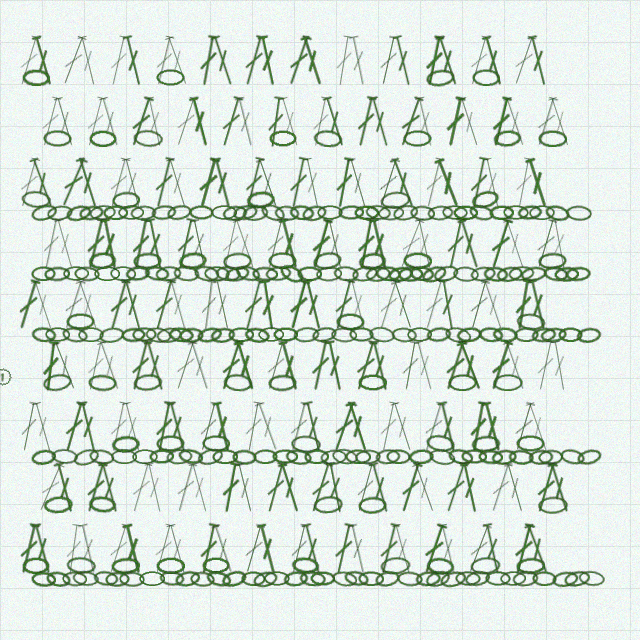chain: (277, 261, 306, 286), (470, 188, 501, 211), (312, 250, 343, 271), (42, 372, 73, 393), (425, 433, 456, 454), (259, 201, 287, 224), (72, 446, 101, 468), (425, 68, 456, 88), (380, 190, 411, 210), (420, 263, 448, 285), (196, 446, 225, 467), (516, 312, 546, 332), (380, 556, 411, 575), (470, 556, 501, 575), (30, 202, 58, 223), (234, 263, 262, 284), (432, 263, 460, 284), (220, 568, 248, 589), (424, 568, 452, 589), (358, 251, 387, 271), (426, 556, 455, 576), (133, 129, 163, 148), (313, 129, 343, 148), (21, 190, 51, 209), (133, 373, 163, 392), (223, 373, 253, 392), (43, 495, 73, 514), (313, 495, 343, 514), (66, 556, 96, 575), (444, 325, 472, 345), (428, 447, 456, 467), (439, 569, 467, 589), (493, 129, 522, 148), (246, 190, 275, 209), (88, 251, 117, 270), (178, 251, 207, 270), (88, 495, 117, 514), (291, 556, 320, 575), (65, 203, 92, 223), (301, 203, 328, 223), (468, 203, 495, 223), (544, 203, 571, 223), (224, 264, 251, 284), (196, 325, 223, 345), (291, 435, 321, 453), (471, 435, 501, 453), (559, 447, 586, 467), (576, 447, 603, 467), (538, 496, 568, 514), (205, 569, 232, 589), (252, 569, 279, 589), (351, 264, 379, 283), (368, 325, 396, 344), (331, 447, 359, 466), (563, 569, 591, 588), (133, 252, 162, 270), (223, 252, 252, 270), (538, 252, 567, 270), (88, 374, 117, 392), (268, 374, 297, 392), (111, 435, 140, 453), (358, 496, 387, 514), (111, 557, 140, 575), (516, 557, 545, 575), (166, 203, 193, 222), (232, 203, 259, 222), (392, 203, 419, 222), (193, 264, 220, 283), (311, 325, 338, 344), (177, 447, 204, 466), (447, 447, 474, 466), (174, 569, 201, 588), (343, 569, 370, 588), (374, 569, 401, 588), (464, 569, 491, 588), (493, 374, 523, 391), (112, 191, 140, 209), (46, 204, 74, 222), (61, 326, 89, 344), (551, 570, 579, 588), (156, 69, 185, 86), (43, 130, 72, 147), (403, 130, 432, 147), (538, 130, 567, 147), (268, 252, 297, 269), (403, 252, 432, 269), (66, 313, 95, 330), (336, 313, 365, 330), (358, 374, 387, 391), (448, 374, 477, 391), (156, 435, 185, 452), (516, 435, 545, 452), (156, 557, 185, 574), (78, 204, 105, 222), (242, 204, 269, 222), (387, 265, 414, 283), (496, 265, 523, 283), (520, 265, 547, 283), (98, 326, 125, 344), (145, 326, 172, 344), (540, 326, 567, 344), (30, 448, 57, 466), (88, 448, 115, 466), (285, 448, 312, 466), (45, 570, 72, 588), (331, 570, 358, 588), (22, 69, 50, 86), (472, 69, 500, 86), (89, 130, 117, 147), (269, 130, 297, 147), (202, 435, 230, 452), (22, 557, 50, 574), (202, 557, 230, 574), (222, 204, 248, 222), (365, 265, 391, 283), (470, 265, 496, 283), (543, 265, 569, 283), (156, 326, 182, 344), (210, 326, 236, 344), (244, 326, 270, 344), (531, 326, 557, 344), (576, 326, 602, 344), (491, 448, 517, 466), (89, 204, 116, 221), (155, 265, 182, 282), (173, 265, 200, 282), (265, 265, 292, 282), (508, 265, 535, 282), (293, 326, 320, 343), (51, 448, 78, 465), (166, 448, 193, 465), (72, 570, 99, 587), (299, 570, 326, 587), (512, 570, 539, 587), (578, 570, 605, 587), (151, 204, 177, 221), (289, 204, 315, 221), (365, 204, 391, 221), (517, 204, 543, 221), (125, 265, 151, 282), (144, 265, 170, 282), (215, 265, 241, 282), (333, 265, 359, 282), (375, 265, 401, 282), (409, 265, 435, 282), (31, 326, 57, 343), (168, 326, 194, 343), (426, 326, 452, 343), (456, 326, 482, 343), (478, 326, 504, 343), (492, 326, 518, 343), (375, 448, 401, 465), (408, 448, 434, 465), (93, 570, 119, 587), (159, 570, 185, 587), (283, 570, 309, 587), (415, 570, 441, 587), (130, 205, 157, 221), (427, 205, 454, 221), (320, 449, 347, 465), (274, 205, 300, 221), (378, 205, 404, 221), (566, 205, 592, 221), (44, 266, 70, 282), (74, 266, 100, 282), (252, 266, 278, 282), (316, 266, 342, 282), (453, 266, 479, 282), (483, 266, 509, 282), (565, 266, 591, 282), (331, 327, 357, 343), (391, 327, 417, 343), (355, 449, 381, 465), (508, 449, 534, 465), (528, 449, 554, 465), (119, 571, 145, 587), (397, 571, 423, 587), (410, 205, 435, 221), (398, 266, 423, 282), (554, 266, 579, 282), (121, 327, 146, 343), (179, 327, 204, 343), (232, 449, 257, 465), (478, 449, 503, 465), (538, 449, 563, 465), (31, 571, 56, 587), (62, 571, 87, 587), (105, 571, 130, 587), (190, 571, 215, 587), (118, 205, 144, 220), (211, 205, 237, 220), (317, 205, 343, 220), (338, 205, 364, 220), (442, 205, 468, 220), (503, 205, 529, 220), (529, 205, 555, 220), (63, 266, 89, 281), (94, 266, 120, 281), (110, 266, 136, 281), (204, 266, 230, 281), (78, 327, 104, 342), (228, 327, 254, 342), (258, 327, 284, 342), (111, 449, 137, 464), (132, 449, 158, 464), (212, 449, 238, 464), (272, 449, 298, 464), (345, 449, 371, 464), (461, 449, 487, 464), (139, 571, 165, 586), (264, 571, 290, 586), (358, 571, 384, 586), (455, 571, 481, 586), (485, 571, 511, 586), (500, 571, 526, 586), (103, 205, 128, 220), (189, 205, 214, 220), (354, 205, 379, 220), (453, 205, 478, 220), (489, 205, 514, 220), (31, 266, 56, 281), (297, 266, 322, 281), (45, 327, 70, 342), (132, 327, 157, 342), (273, 327, 298, 342), (349, 327, 374, 342), (407, 327, 432, 342), (514, 327, 539, 342), (558, 327, 583, 342), (149, 449, 174, 464), (253, 449, 278, 464), (304, 449, 329, 464), (386, 449, 411, 464), (241, 571, 266, 586), (310, 571, 335, 586), (532, 571, 557, 586)
double: (56, 156, 91, 209), (33, 461, 68, 514), (386, 156, 420, 209), (431, 156, 465, 209), (394, 217, 428, 270), (48, 339, 82, 392), (453, 339, 487, 392), (462, 522, 496, 575), (57, 34, 90, 87), (161, 34, 194, 87), (394, 95, 427, 148), (26, 156, 59, 209), (93, 339, 126, 392), (251, 400, 284, 453), (408, 461, 441, 514), (521, 522, 554, 575), (207, 34, 239, 87), (283, 34, 315, 87), (508, 34, 540, 87), (125, 95, 157, 148), (170, 95, 202, 148), (499, 95, 531, 148), (544, 95, 576, 148), (252, 156, 284, 209), (229, 217, 261, 270), (499, 217, 531, 270), (27, 278, 59, 331), (72, 278, 104, 331), (387, 278, 419, 331), (477, 278, 509, 331), (215, 339, 247, 392), (485, 339, 517, 392), (499, 339, 531, 392), (328, 400, 360, 453), (522, 400, 554, 453), (440, 461, 472, 514), (207, 522, 239, 575), (418, 522, 450, 575), (297, 34, 328, 87), (432, 34, 463, 87), (319, 95, 350, 148), (454, 95, 485, 148), (72, 156, 103, 209), (162, 156, 193, 209), (373, 156, 404, 209), (522, 156, 553, 209), (454, 217, 485, 270), (485, 217, 516, 270), (13, 278, 44, 331), (58, 278, 89, 331), (373, 278, 404, 331), (170, 339, 201, 392), (184, 339, 215, 392), (350, 339, 381, 392), (440, 339, 471, 392), (342, 400, 373, 453), (387, 400, 418, 453), (418, 400, 449, 453), (274, 461, 305, 514), (305, 461, 336, 514), (395, 461, 426, 514), (485, 461, 516, 514), (544, 461, 575, 514), (103, 522, 134, 575), (14, 34, 44, 87), (28, 34, 58, 87), (239, 34, 269, 87), (464, 34, 494, 87), (478, 34, 508, 87), (50, 95, 80, 148), (95, 95, 125, 148), (216, 95, 246, 148), (275, 95, 305, 148), (365, 95, 395, 148), (531, 95, 561, 148), (14, 156, 44, 209), (343, 156, 373, 209), (50, 217, 80, 270), (306, 217, 336, 270), (531, 217, 561, 270), (104, 278, 134, 331), (149, 278, 179, 331), (163, 278, 193, 331), (419, 278, 449, 331), (464, 278, 494, 331), (140, 339, 170, 392), (230, 339, 260, 392), (261, 339, 291, 392), (28, 400, 58, 453), (59, 400, 89, 453), (509, 400, 539, 453), (81, 461, 111, 514), (126, 461, 156, 514), (365, 461, 395, 514), (500, 461, 530, 514), (531, 461, 561, 514), (239, 522, 269, 575), (36, 95, 65, 148), (81, 95, 110, 148), (185, 95, 214, 148), (104, 156, 133, 209), (118, 156, 147, 209), (194, 156, 223, 209), (208, 156, 237, 209), (261, 217, 290, 270), (275, 217, 304, 270), (118, 278, 147, 331), (239, 278, 268, 331), (284, 278, 313, 331), (329, 278, 358, 331), (126, 339, 155, 392), (275, 339, 304, 392), (410, 339, 439, 392), (118, 400, 147, 453), (163, 400, 192, 453), (194, 400, 223, 453), (284, 400, 313, 453), (478, 400, 507, 453), (50, 461, 79, 514), (95, 461, 124, 514), (171, 461, 200, 514), (185, 461, 214, 514), (261, 461, 290, 514), (351, 461, 380, 514), (28, 522, 57, 575), (149, 522, 178, 575), (163, 522, 192, 575), (253, 522, 282, 575), (298, 522, 327, 575), (388, 522, 417, 575), (509, 522, 538, 575), (74, 34, 102, 87), (119, 34, 147, 87), (150, 34, 178, 87), (389, 34, 417, 87), (524, 34, 552, 87), (231, 95, 259, 148), (352, 95, 380, 148), (411, 95, 439, 148), (487, 95, 515, 148), (150, 156, 178, 209), (240, 156, 268, 209), (420, 156, 448, 209), (82, 217, 110, 270), (321, 217, 349, 270), (299, 278, 327, 331), (344, 278, 372, 331), (524, 278, 552, 331), (366, 339, 394, 392), (74, 400, 102, 453), (299, 400, 327, 453), (434, 400, 462, 453), (231, 461, 259, 514), (15, 522, 43, 575), (74, 522, 102, 575), (119, 522, 147, 575), (285, 522, 313, 575), (375, 522, 403, 575), (434, 522, 462, 575), (105, 34, 132, 87), (254, 34, 281, 87), (375, 34, 402, 87), (141, 95, 168, 148), (307, 95, 334, 148), (442, 95, 469, 148), (285, 156, 312, 209), (299, 156, 326, 209), (479, 156, 506, 209), (172, 217, 199, 270), (186, 217, 213, 270), (217, 217, 244, 270), (366, 217, 393, 270), (411, 217, 438, 270), (442, 217, 469, 270), (209, 278, 236, 331), (82, 339, 109, 392), (307, 339, 334, 392), (321, 339, 348, 392), (532, 339, 559, 392), (105, 400, 132, 453), (209, 400, 236, 453), (375, 400, 402, 453), (141, 461, 168, 514), (456, 461, 483, 514), (195, 522, 222, 575), (330, 522, 357, 575), (344, 522, 371, 575), (479, 522, 506, 575), (345, 34, 371, 87), (421, 34, 447, 87), (331, 156, 357, 209), (466, 156, 492, 209), (511, 156, 537, 209), (38, 217, 64, 270), (97, 217, 123, 270), (128, 217, 154, 270), (142, 217, 168, 270), (353, 217, 379, 270), (16, 400, 42, 453), (151, 400, 177, 453), (322, 461, 348, 514), (196, 34, 221, 87), (547, 217, 572, 270), (435, 278, 460, 331), (511, 278, 536, 331), (398, 339, 423, 392), (547, 339, 572, 392), (241, 400, 266, 453), (466, 400, 491, 453), (218, 461, 243, 514), (332, 34, 356, 87), (256, 279, 280, 331), (264, 96, 287, 148), (197, 279, 220, 331), (39, 340, 62, 392), (62, 523, 85, 575)
noise: (0, 366, 13, 387)
